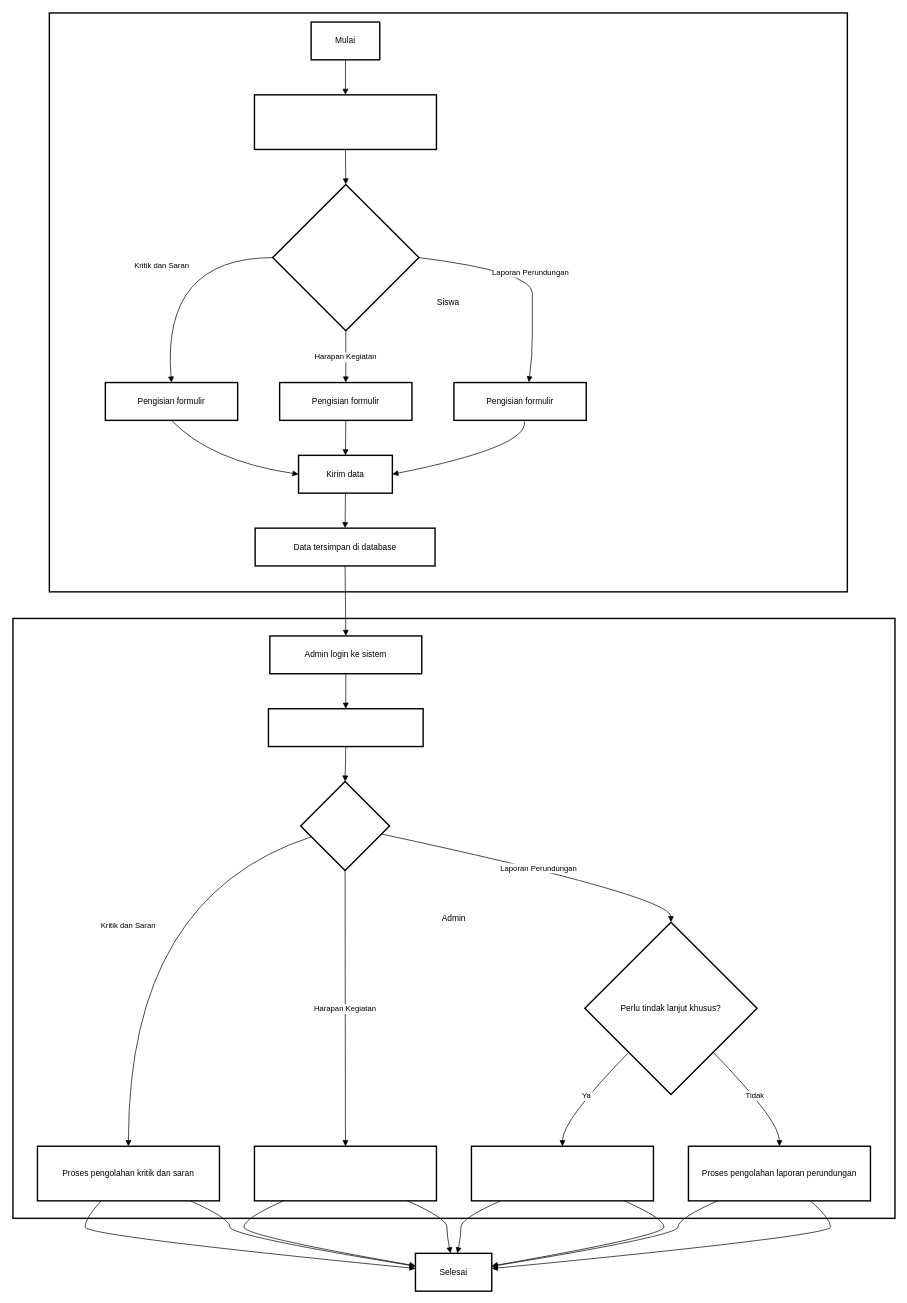
This 907x1303 diagram has some shape labels left out. The shapes that lost their labels are listed below. From the top down, each one's centre as x and y in pixels, then its label:
At point 345,122: "Siswa membuka website Forum Siswa".
At point 345,257: "Pilih jenis pengiriman".
At point 345,727: "Admin mengelola data".
At point 345,825: "Jenis data".
At point 345,1173: "Proses pengolahan harapan kegiatan".
At point 562,1173: "Koordinasi dengan pembina/BK".
